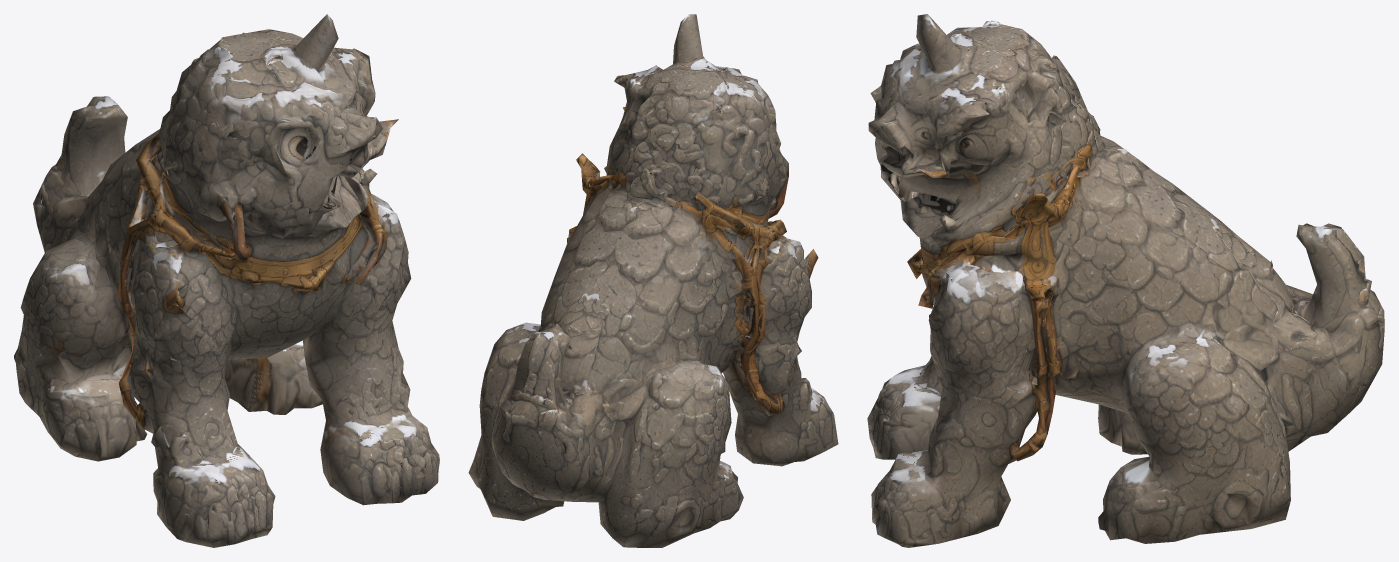
The model's file is PR_Cheonrok.fbx.
The picture shows the model from 3 angles, left to right: view 1: azimuth 30°, elevation 25°; view 2: azimuth 150°, elevation 25°; view 3: azimuth 270°, elevation 25°; orthographic projection. The views are drawn at different scales.
Visible parts, largest first — view 1: texture_mapping; view 2: texture_mapping; view 3: texture_mapping.
Part boxes in pixels (x1=…): texture_mapping: x1=14, y1=14, x2=439, y2=547; texture_mapping: x1=468, y1=14, x2=838, y2=547; texture_mapping: x1=867, y1=14, x2=1384, y2=547.
Size of the model in its own units: 0.573 by 0.9393 by 0.9741.
1 material, 1 textured.
